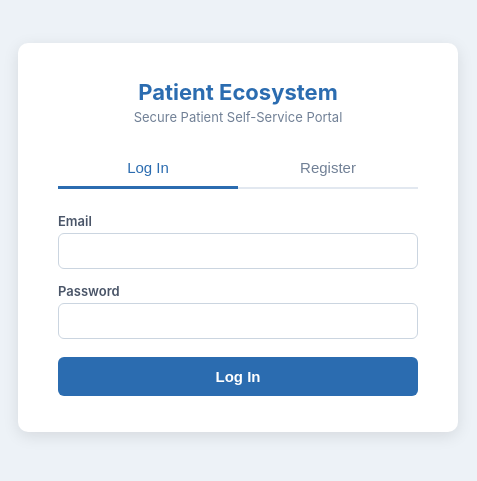
Test: AuthPage › displays an error message on failed login
The image size is (477, 481).
In the field labelled "Email": (238,250) 58,232 -> 418,268, type "bad@example.com"
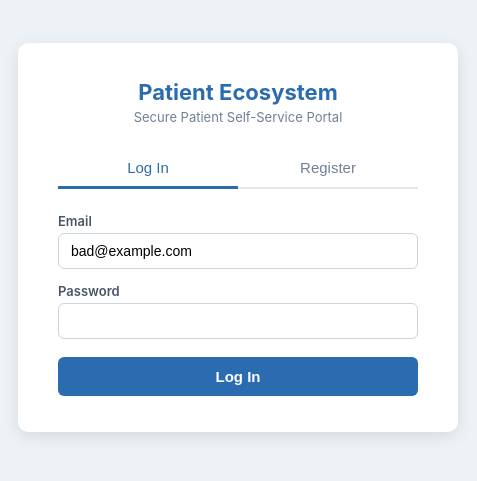
In the password field labelled "Password": (238,320) 58,302 -> 418,338, type "wrongpassword"
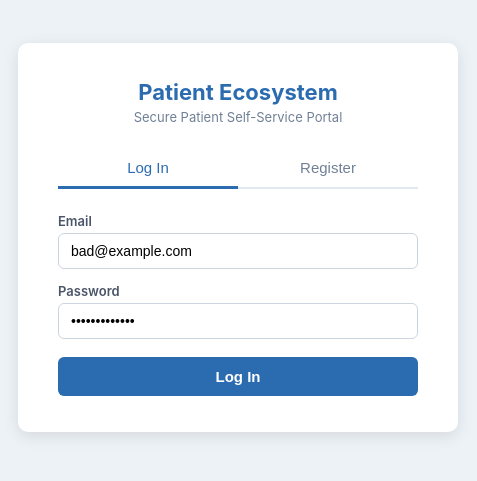
Click the button with test id "auth-submit": (238,376) 58,356 -> 418,396
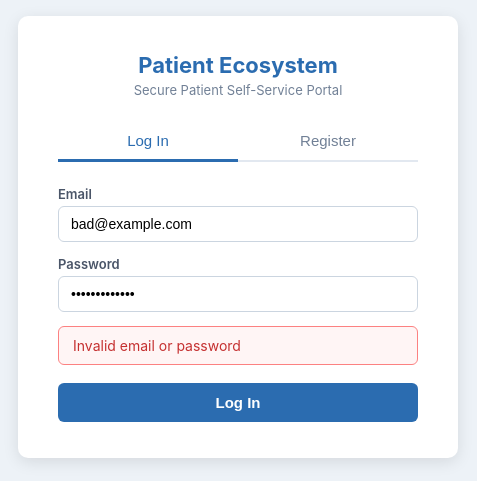
Result: the text "Invalid email or password" is shown at 58,326 -> 418,365
